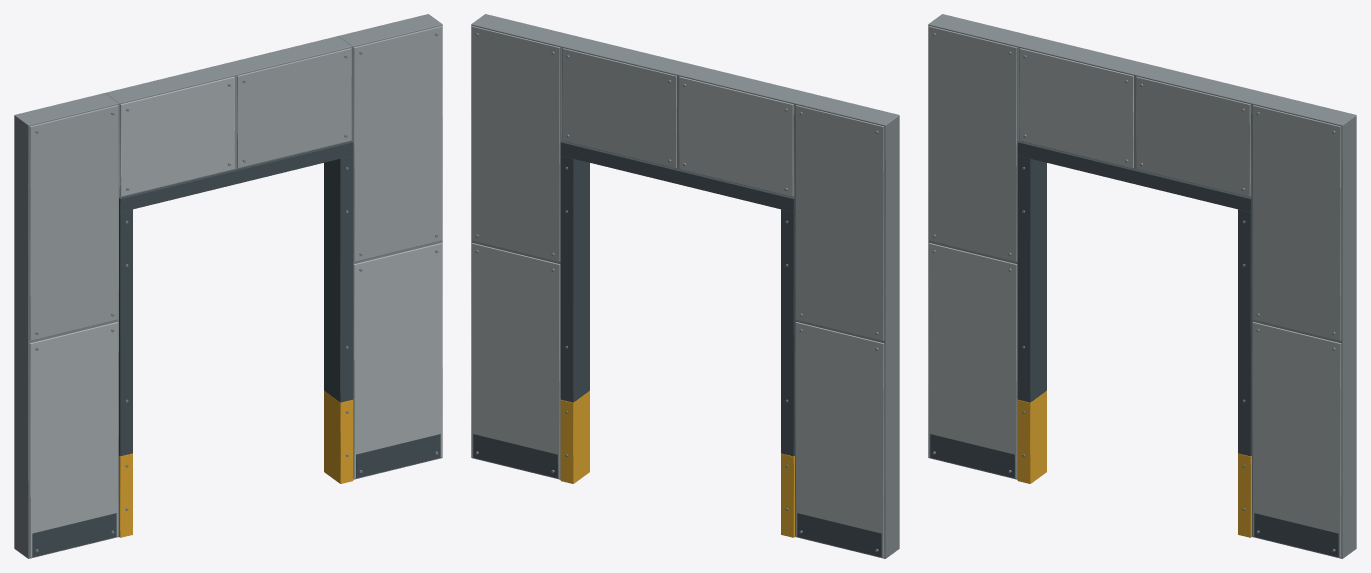
The picture shows the model from 3 angles, left to right: view 1: azimuth 30°, elevation 25°; view 2: azimuth 150°, elevation 25°; view 3: azimuth 330°, elevation 25°; orthographic projection.
Parts seen in each view (by area): view 1: SM_NPP_Wall_Door_2m_A; view 2: SM_NPP_Wall_Door_2m_A; view 3: SM_NPP_Wall_Door_2m_A.
Part boxes in pixels (x1,y1,x2,y2): SM_NPP_Wall_Door_2m_A: [14, 14, 442, 558]; SM_NPP_Wall_Door_2m_A: [471, 14, 899, 558]; SM_NPP_Wall_Door_2m_A: [928, 14, 1356, 558].
Bounding box in the file's own units: 4 × 4 × 0.3.
